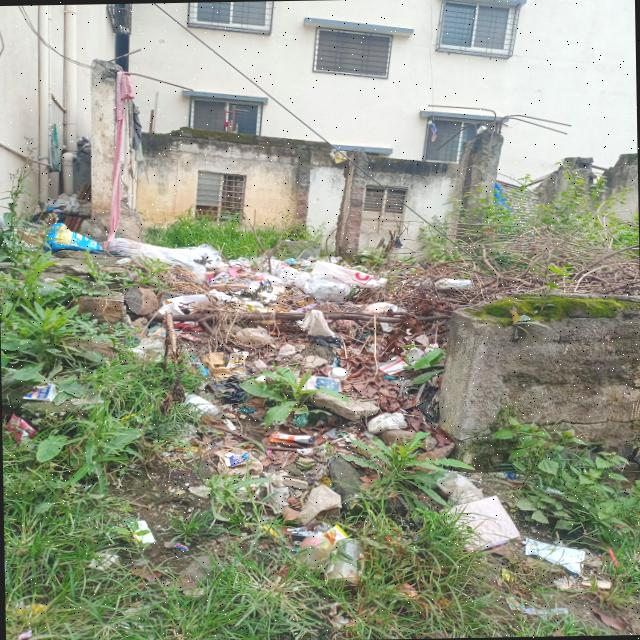garbage: (160, 370, 474, 598), (58, 242, 380, 372)
